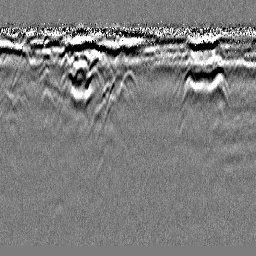cavity: (117, 68, 141, 100)
